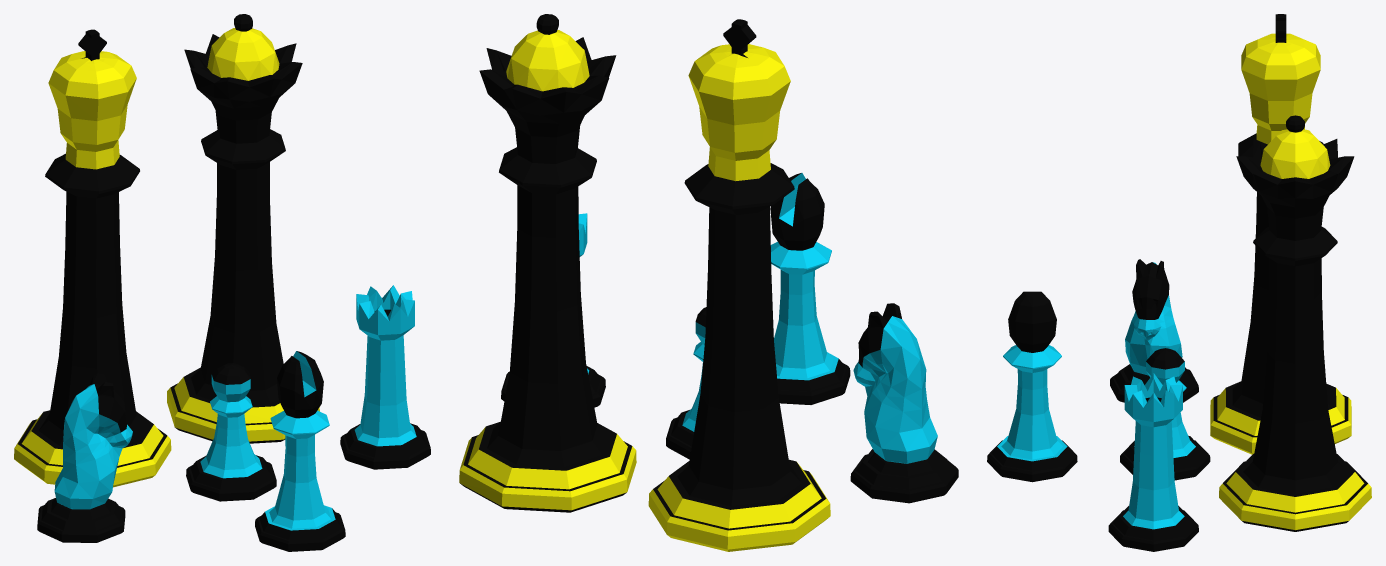
File: Chess Pieces.fbx
The picture shows the model from 3 angles, left to right: view 1: azimuth 30°, elevation 25°; view 2: azimuth 150°, elevation 25°; view 3: azimuth 270°, elevation 25°; orthographic projection. The views are drawn at different scales.
Parts seen in each view (by area): view 1: Origin; view 2: Origin; view 3: Origin.
Boxes of the visible parts, x1,y1,x2,y2 form: Origin: [14, 14, 430, 551]; Origin: [459, 14, 958, 551]; Origin: [987, 14, 1371, 551].
Bounding box in the file's own units: 752 × 799 × 676.
